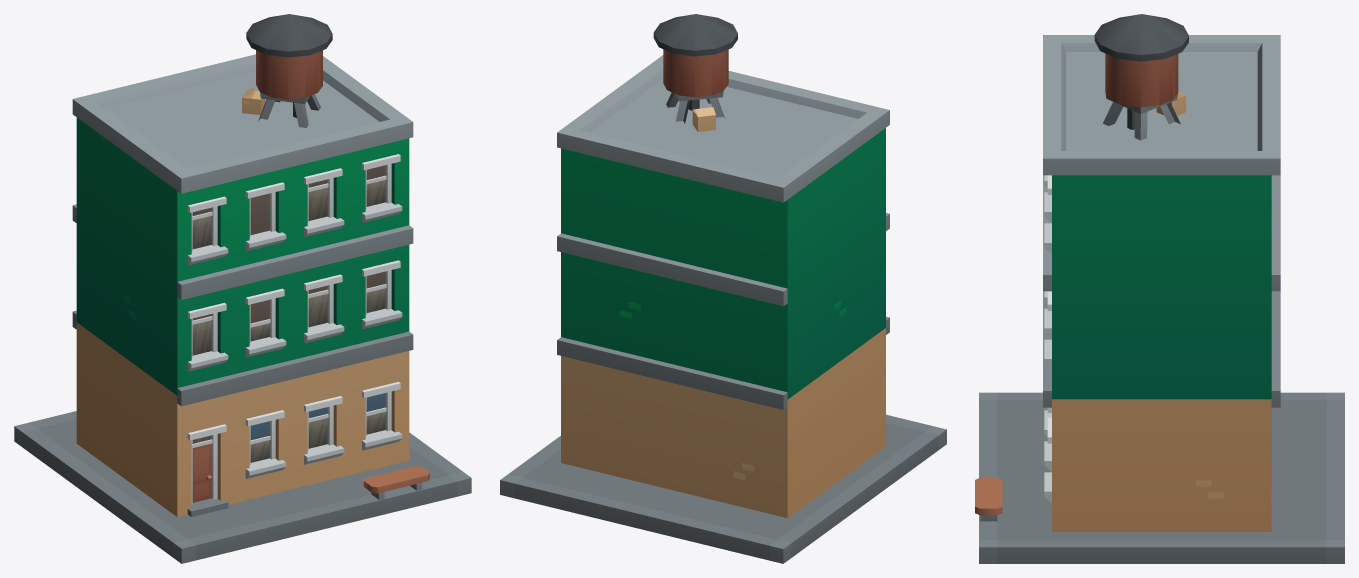
File: Building-7lMEpT2ICD.glb
The picture shows the model from 3 angles, left to right: view 1: azimuth 30°, elevation 25°; view 2: azimuth 150°, elevation 25°; view 3: azimuth 270°, elevation 25°; orthographic projection. The views are drawn at different scales.
Visible parts, largest first — view 1: building_D; view 2: building_D; view 3: building_D.
Part boxes in pixels (bbox=[...]): building_D: bbox=[14, 14, 471, 563]; building_D: bbox=[500, 14, 946, 563]; building_D: bbox=[975, 14, 1344, 563].
Size of the model in its own units: 2 by 2.97 by 2.02.
1 material, 1 textured.
